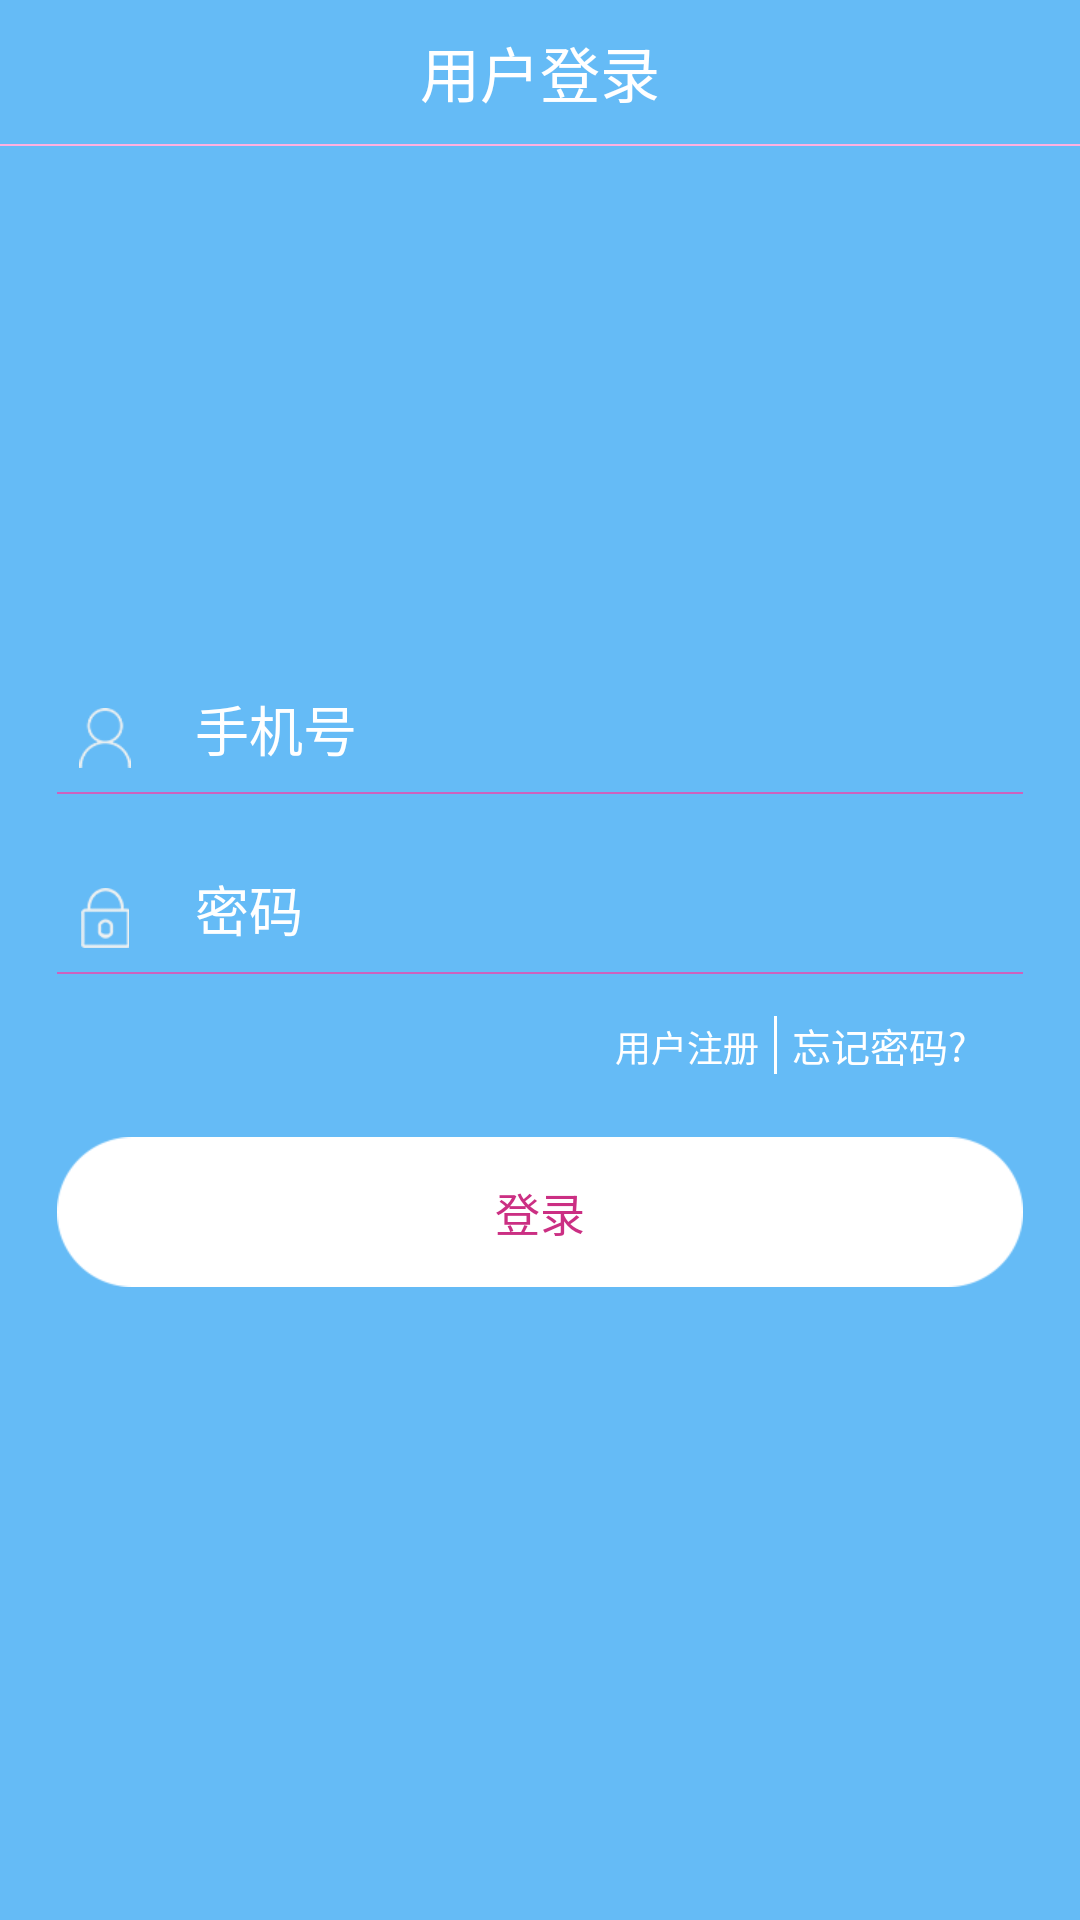

Icon bounding boxes for this 1080w x 1920h phone screenshot, format (x1, y1, x2, y2):
passowrd: (81, 888, 129, 948)
username: (79, 708, 131, 768)
